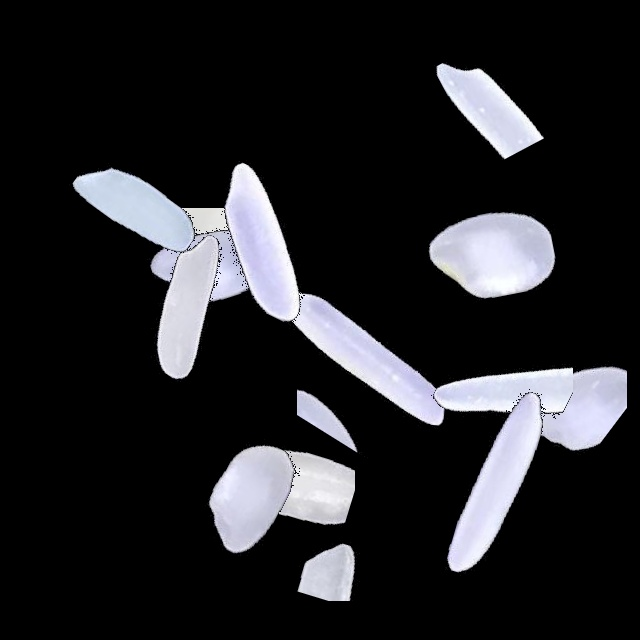Broken: (185, 352, 355, 602), (403, 244, 573, 494), (470, 256, 627, 506), (358, 18, 608, 160), (215, 487, 465, 601), (297, 261, 403, 511), (94, 208, 344, 298)
Full: (238, 230, 488, 480), (368, 131, 618, 381), (84, 140, 334, 390), (121, 372, 371, 622), (373, 357, 623, 607), (65, 182, 315, 432), (140, 119, 390, 369), (10, 81, 260, 331)
